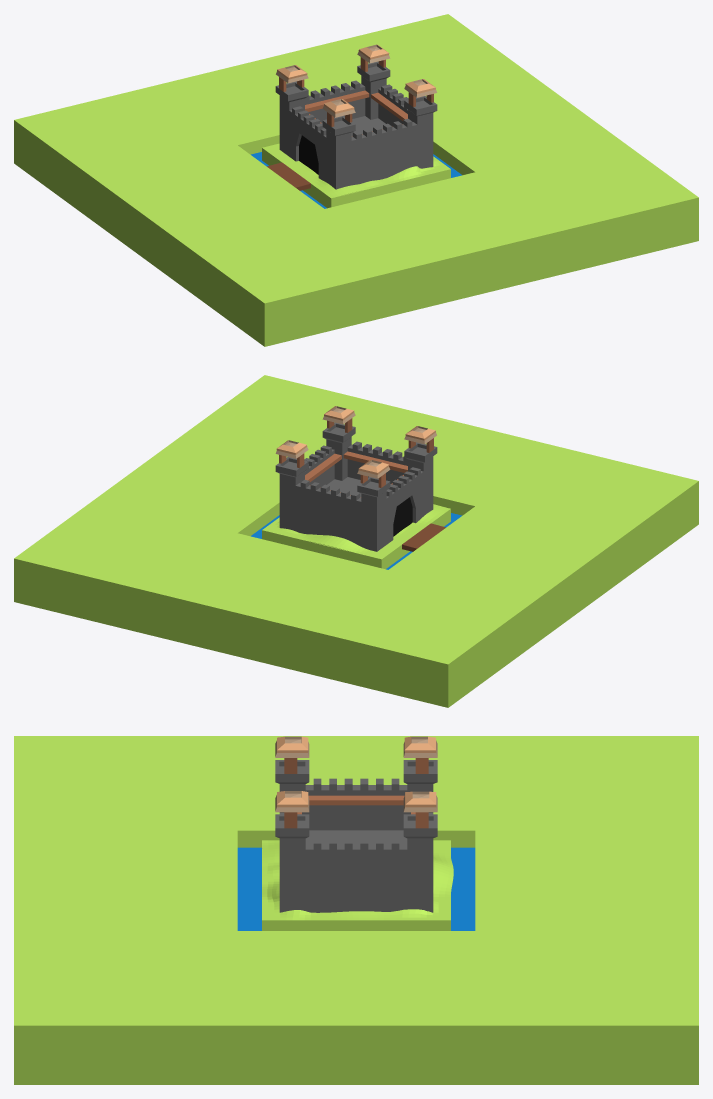
The picture shows the model from 3 angles, top to bottom: view 1: azimuth 30°, elevation 25°; view 2: azimuth 150°, elevation 25°; view 3: azimuth 270°, elevation 25°; orthographic projection. The views are drawn at different scales.
Parts seen in each view (by area): view 1: VaromaMap; view 2: VaromaMap; view 3: VaromaMap.
Part boxes in pixels (x1=…): VaromaMap: x1=14, y1=14, x2=698, y2=346; VaromaMap: x1=14, y1=375, x2=698, y2=707; VaromaMap: x1=14, y1=736, x2=698, y2=1084.
Bounding box in the file's own units: 378 × 105 × 378.
Materials: 1 (1 with a texture image).
